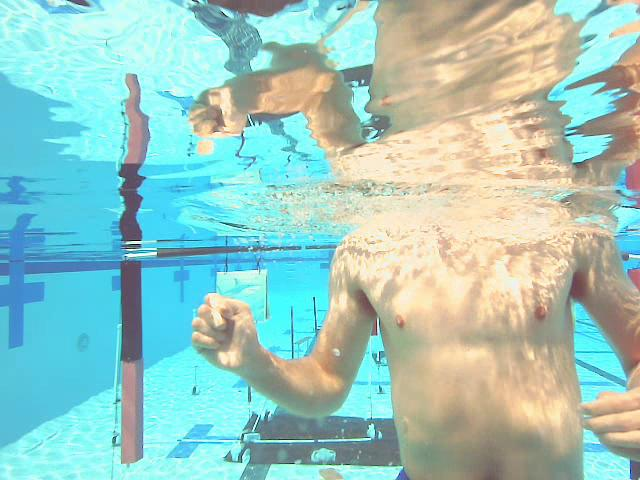left_gate_poster: (120, 260, 145, 461)
white_poster: (193, 309, 199, 396)
